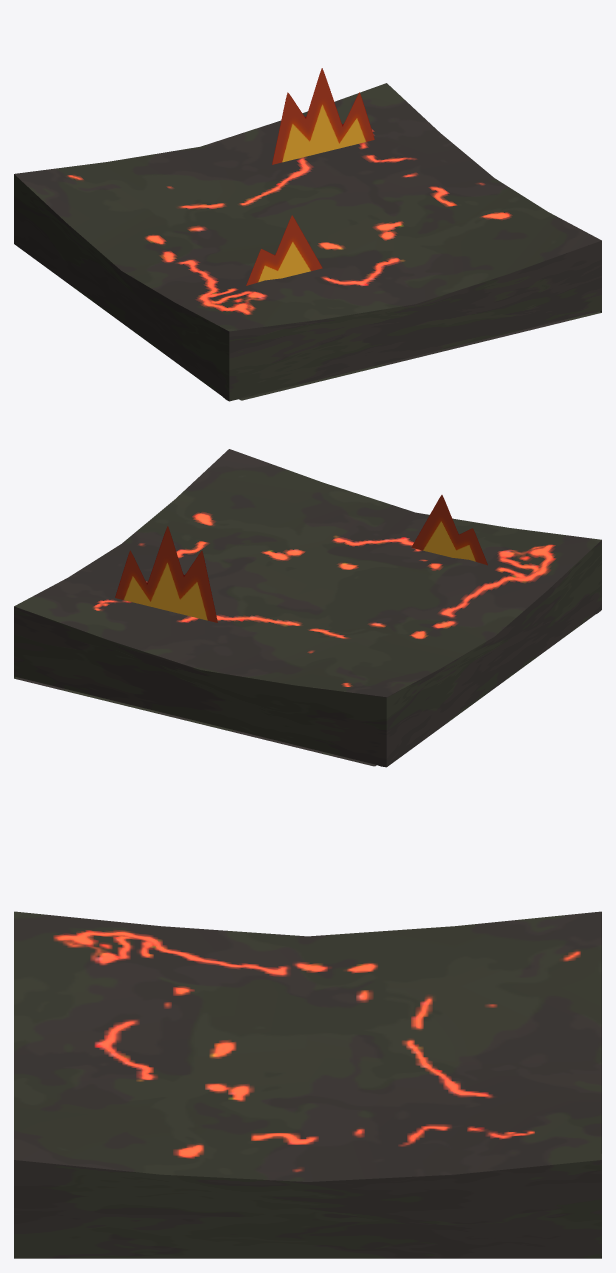
File: 2FireTile2.fbx
3 renders of one model, top to bottom at view 1: azimuth 30°, elevation 25°; view 2: azimuth 150°, elevation 25°; view 3: azimuth 270°, elevation 25°, orthographic. The views are drawn at different scales.
Visible parts, largest first — view 1: 2FireTile2, 1BurningFire.007, 1BurningFire.008; view 2: 2FireTile2, 1BurningFire.007, 1BurningFire.008; view 3: 2FireTile2.
Boxes of the visible parts, box(x1,y1,x2,y2) form: 2FireTile2: box(14, 83, 601, 401); 1BurningFire.007: box(272, 68, 374, 164); 1BurningFire.008: box(246, 215, 322, 285); 2FireTile2: box(14, 449, 601, 767); 1BurningFire.007: box(115, 526, 217, 622); 1BurningFire.008: box(411, 495, 487, 565); 2FireTile2: box(14, 911, 601, 1258).
Size of the model in its own units: 200 by 94.97 by 200.
3 materials, 3 textured.
